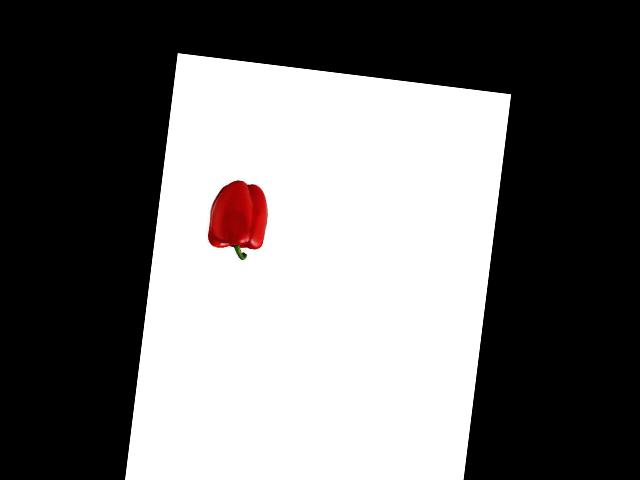bell_pepper: (201, 174, 274, 262)
